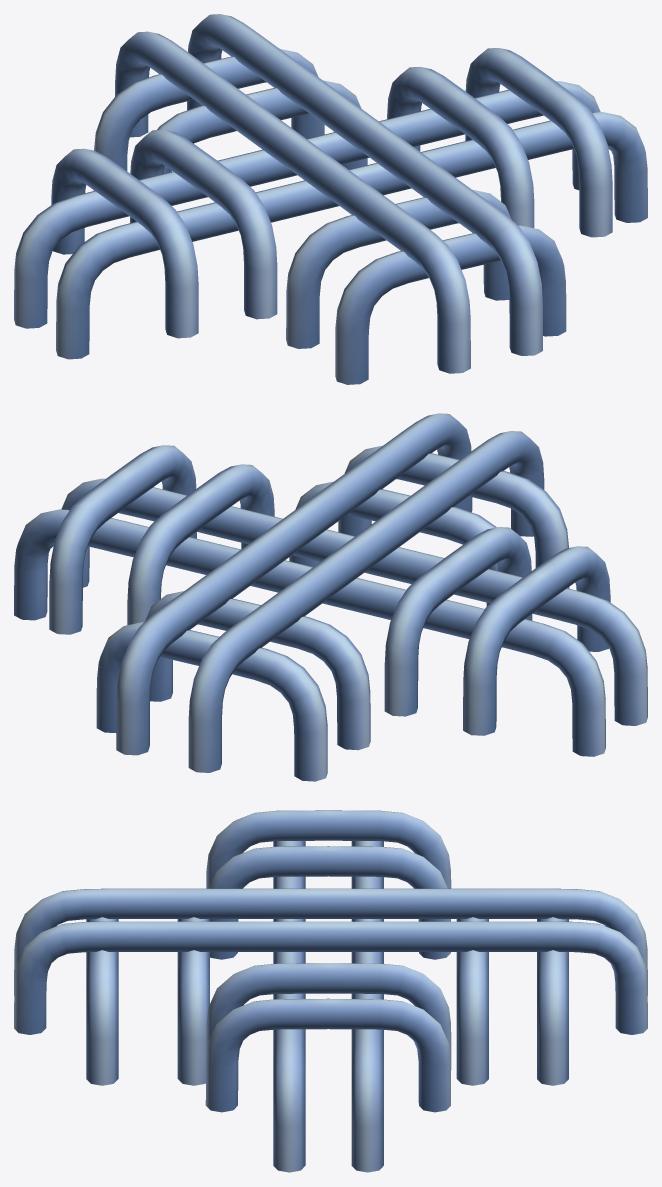
The model's file is Lock_Plus.fbx.
The picture shows the model from 3 angles, top to bottom: view 1: azimuth 30°, elevation 25°; view 2: azimuth 150°, elevation 25°; view 3: azimuth 270°, elevation 25°; orthographic projection. The views are drawn at different scales.
Parts seen in each view (by area): view 1: Lock_Plus; view 2: Lock_Plus; view 3: Lock_Plus.
Part boxes in pixels (<box>): Lock_Plus: <box>14,14,647,384</box>; Lock_Plus: <box>14,413,647,781</box>; Lock_Plus: <box>14,810,647,1172</box>.
Bounding box in the file's own units: 3.34 × 0.7782 × 3.34.
